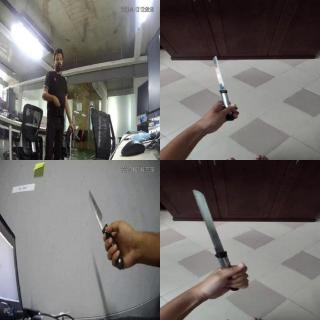knife: (81, 183, 125, 271), (190, 190, 238, 262), (209, 56, 232, 98), (73, 132, 81, 142)
